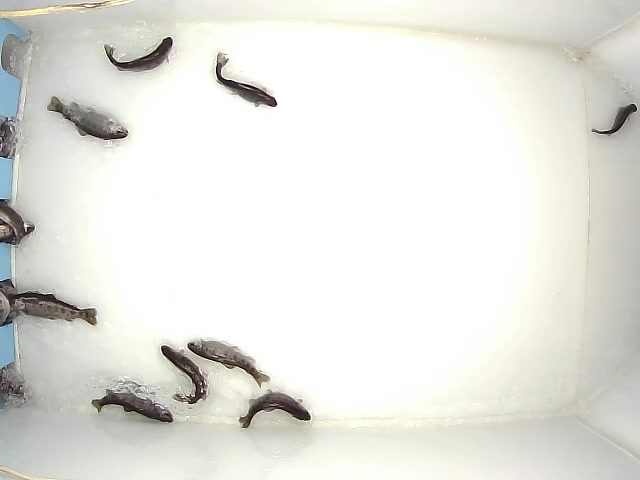fish: (187, 337, 271, 390), (46, 95, 129, 141), (215, 51, 278, 109), (9, 292, 98, 328), (237, 389, 311, 429), (90, 388, 174, 423), (160, 345, 208, 405), (102, 36, 174, 73), (590, 103, 638, 136)
